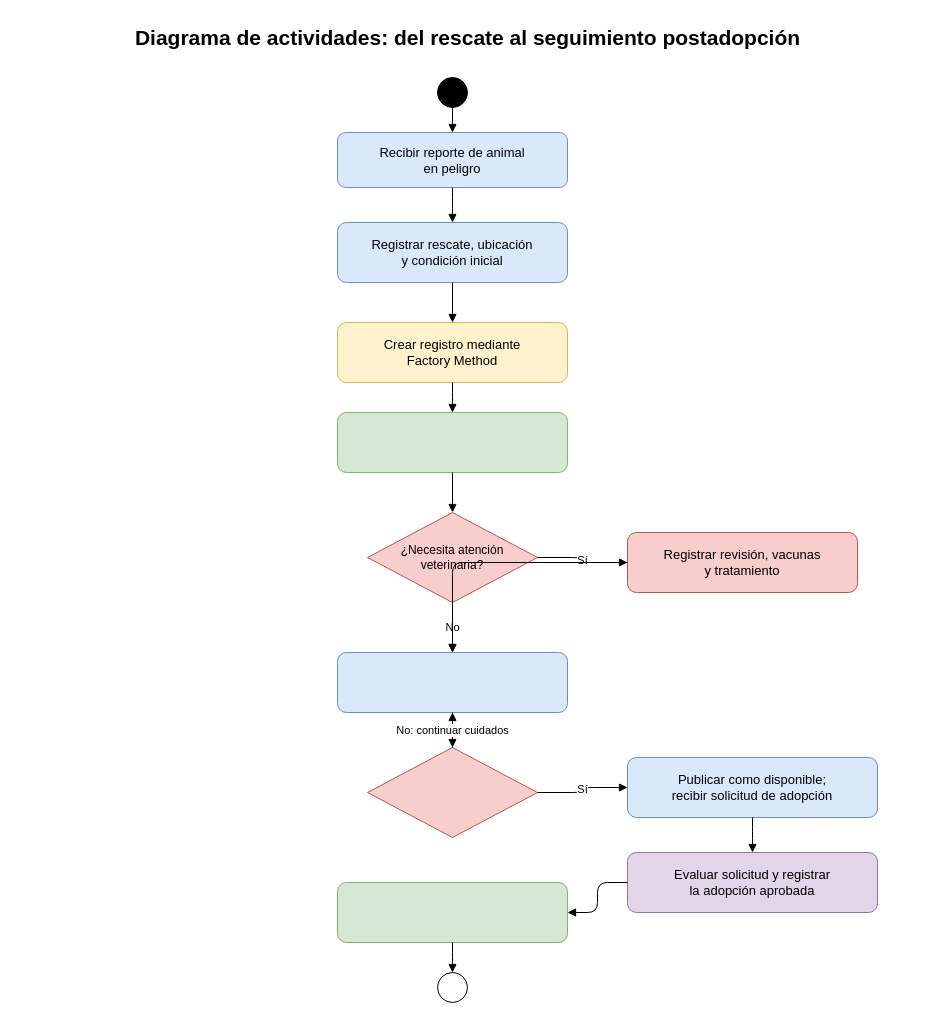
The diagram is 934 pixels wide and 1020 high, and some of its shapes have lost their labels. The centre of each missing label's shape, as x and y in pixels:
"Actualizar estado: Rescatado y notificar responsables" belongs at pixel 452 442.
"Registrar cuidados diarios y actualizar estado" belongs at pixel 452 682.
"Registrar seguimiento por llamada, mensaje o visita" belongs at pixel 452 912.
"¿Está listo para adopción?" belongs at pixel 452 792.
